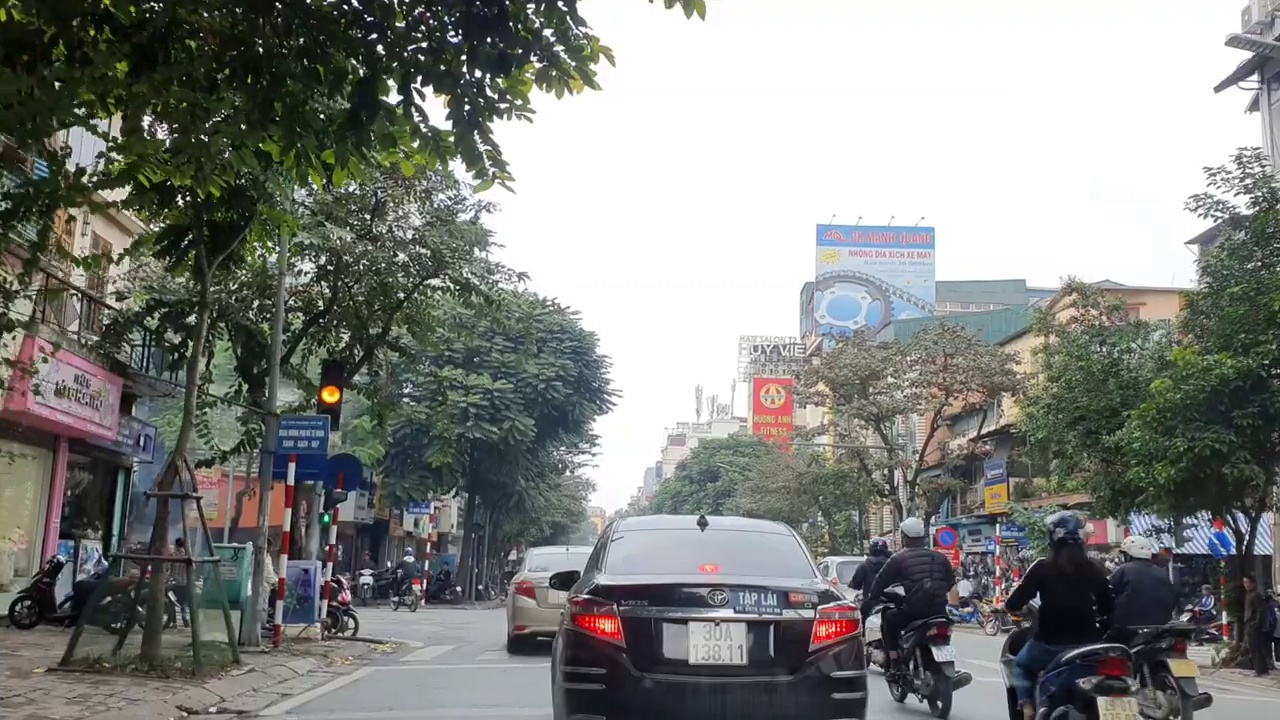vehicle-plate: (1167, 654, 1200, 682), (1097, 697, 1137, 720), (927, 643, 959, 663)
